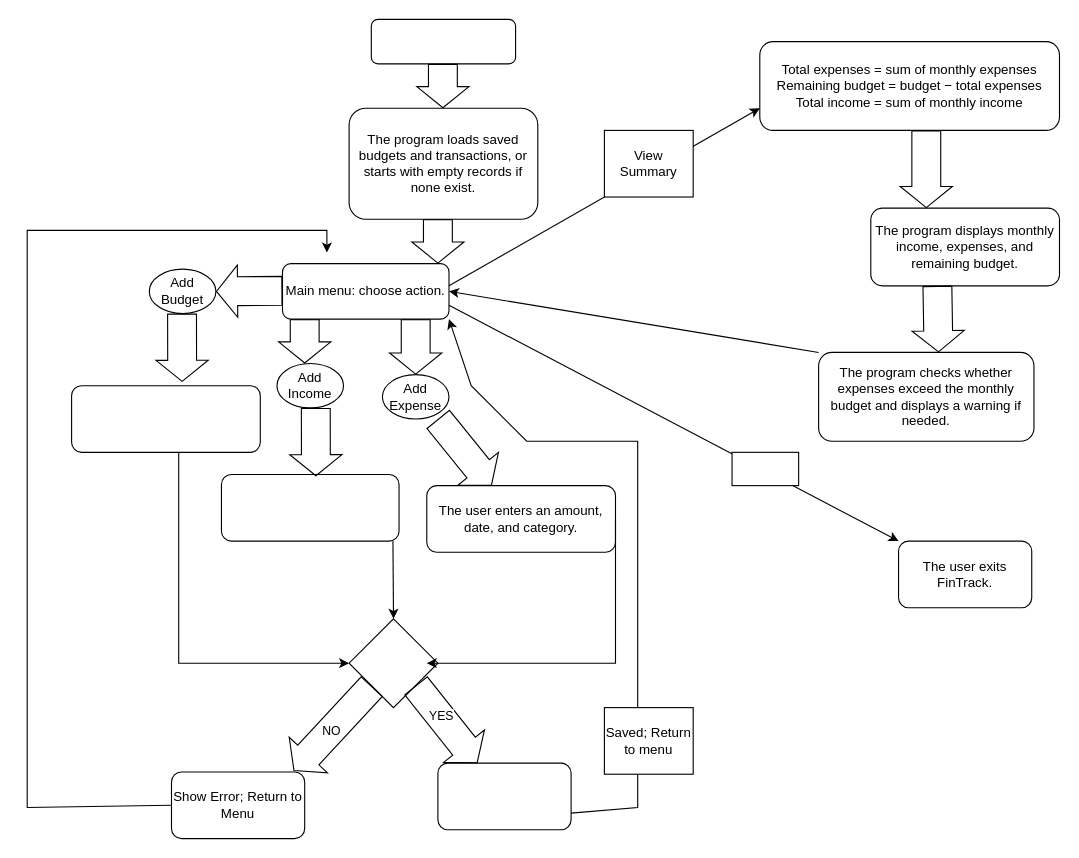
Some shapes in this 1079 by 858 pixel diagram are drawn without their labels. Each missing label, with the centre of its shape:
"Changes are written to local files." goes at point 504,796.
"Exit" goes at point 765,468.
"Start FinTrack" goes at point 443,41.
"The user enters an income amount and date." goes at point 309,507.
"The user selects a month and enters or updates its spending limit." goes at point 165,418.
"Valid Input?" goes at point 393,663.
